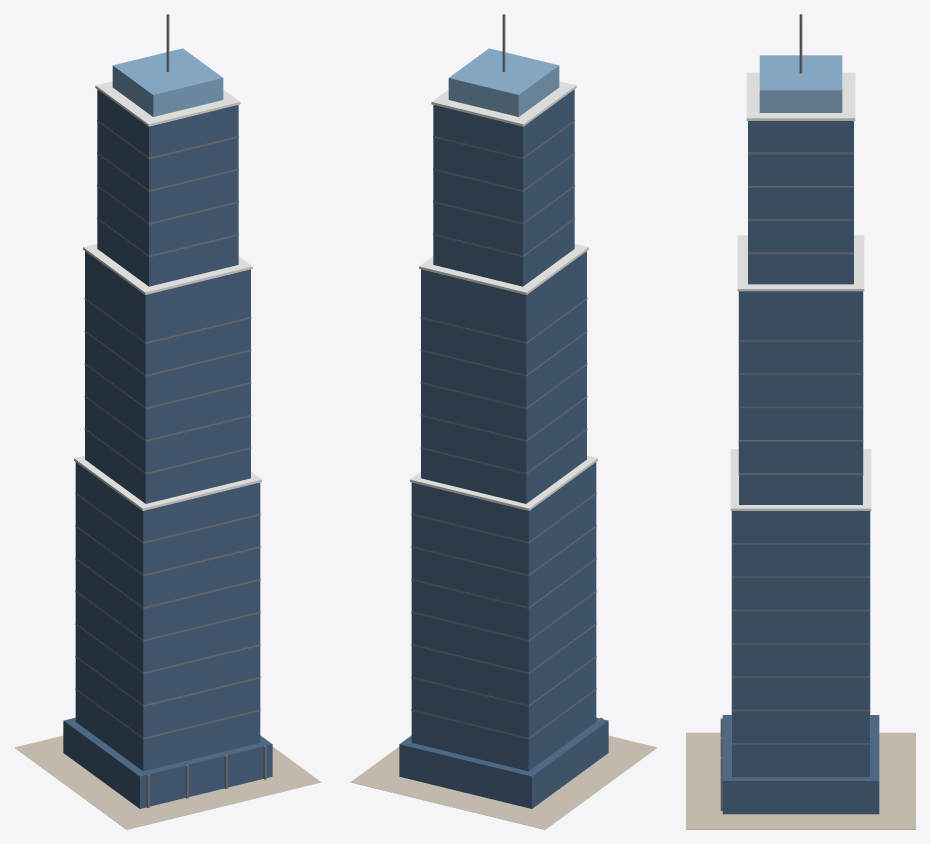
Rendered from tour_bureaux.glb.
The picture shows the model from 3 angles, left to right: view 1: azimuth 30°, elevation 25°; view 2: azimuth 150°, elevation 25°; view 3: azimuth 270°, elevation 25°; orthographic projection. The views are drawn at different scales.
Visible parts, largest first — view 1: tour_bureaux; view 2: tour_bureaux; view 3: tour_bureaux.
Part boxes in pixels (bbox=[...]): tour_bureaux: bbox=[14, 14, 321, 829]; tour_bureaux: bbox=[350, 14, 657, 829]; tour_bureaux: bbox=[686, 14, 915, 829].
Size of the model in its own units: 50 by 184 by 50.
Materials: 1 (1 with a texture image).
